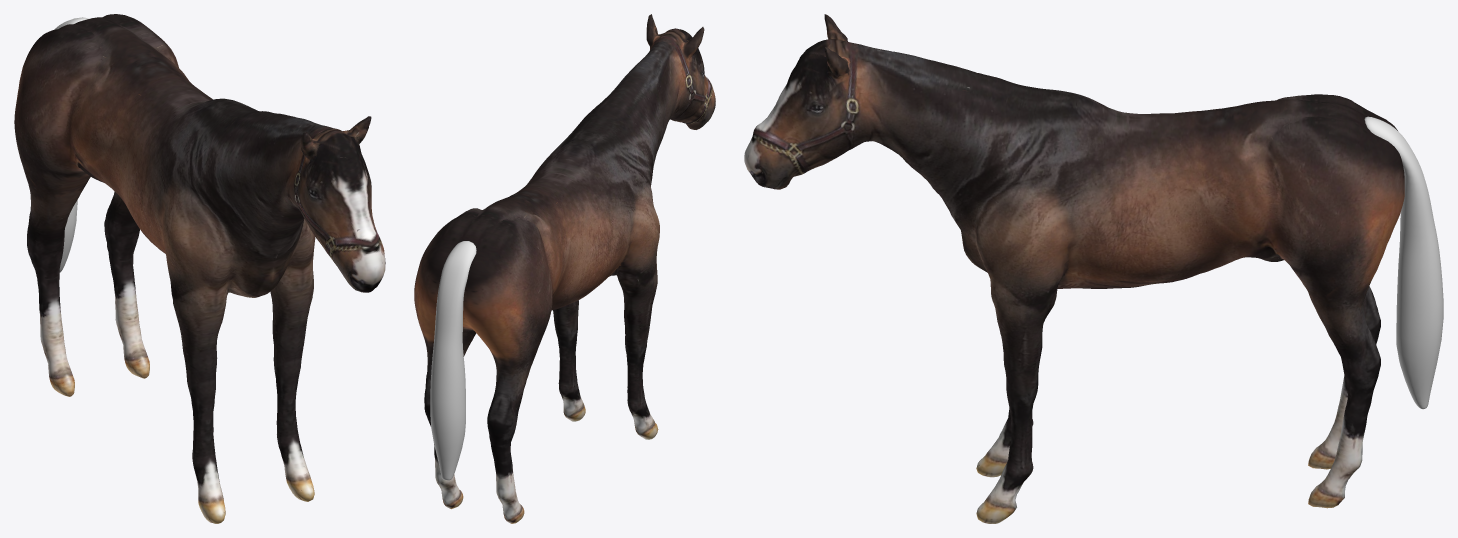
File: horse.fbx
3 views of the same model, side by side, from view 1: azimuth 30°, elevation 25°; view 2: azimuth 150°, elevation 25°; view 3: azimuth 270°, elevation 25° (orthographic). The views are drawn at different scales.
Visible parts, largest first — view 1: Mesh_0.002, Plane.001; view 2: Mesh_0.002, Plane.001; view 3: Mesh_0.002, Plane.001.
Part boxes in pixels (x1,y1,x2,y2): Mesh_0.002: [14, 14, 385, 523]; Plane.001: [54, 17, 88, 272]; Mesh_0.002: [414, 14, 715, 523]; Plane.001: [430, 241, 476, 480]; Mesh_0.002: [744, 14, 1404, 523]; Plane.001: [1364, 116, 1443, 409].
Size of the model in its own units: 269 by 741 by 999.
2 materials, 1 textured.
